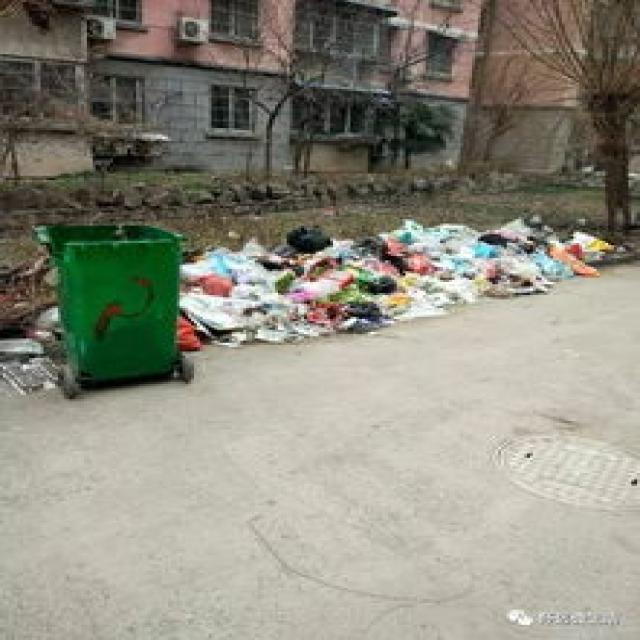garbage: (171, 219, 625, 347)
garbage_bin: (32, 219, 182, 386)
